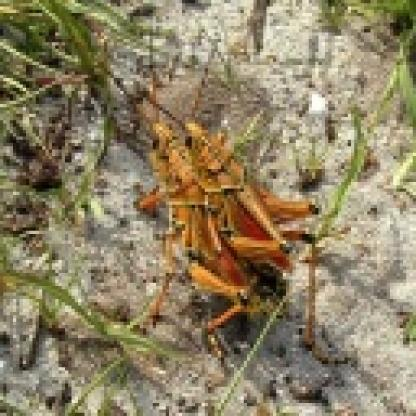grasshopper: (170, 86, 328, 282), (140, 121, 256, 333)
